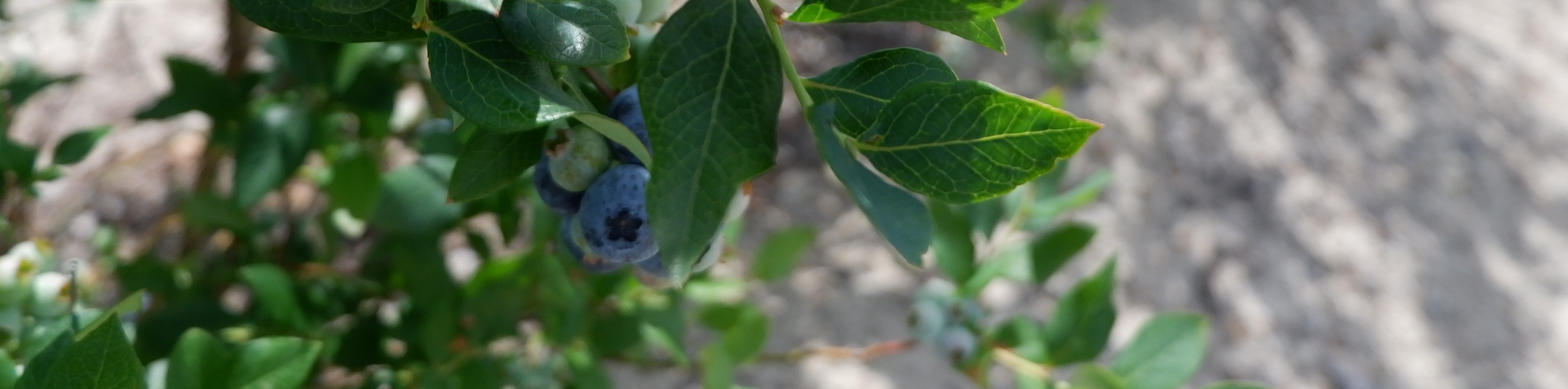Immature: (545, 124, 612, 191), (570, 212, 610, 265), (632, 263, 677, 292)
Mature: (579, 163, 660, 264), (594, 83, 653, 173), (556, 213, 626, 274), (535, 154, 587, 213), (637, 251, 673, 279)
